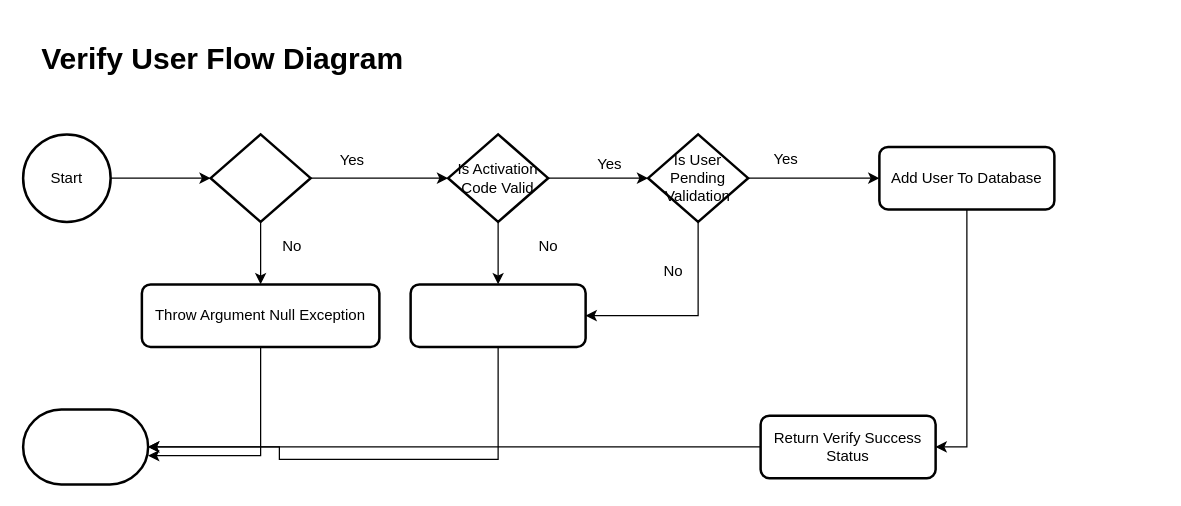
Image size: 1181x506. Some labels were removed from this diagram. Each missing label, with the centre of its shape:
"Argument Is Valid" goes at pixel 260 177.
"End" goes at pixel 85 446.
"Return Fail Status and Message" goes at pixel 497 315.
